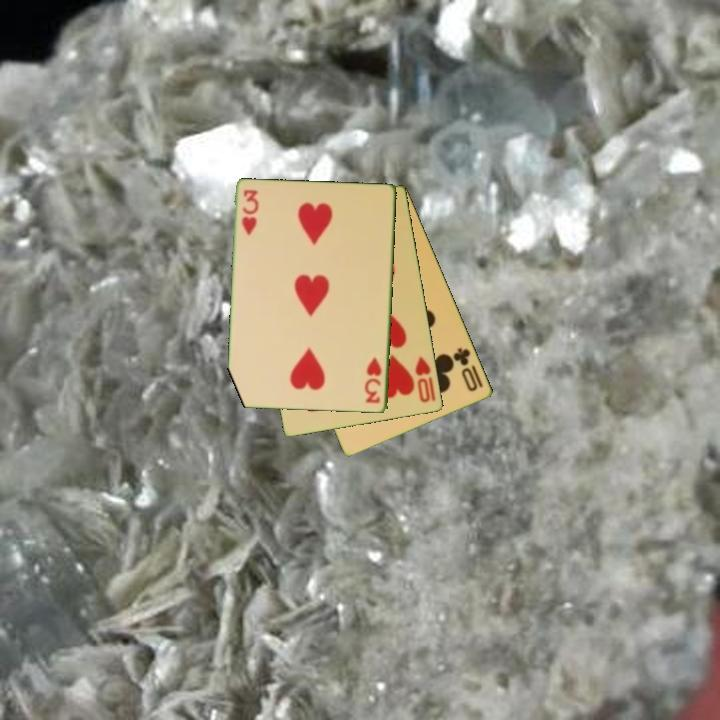10c: (450, 344, 481, 395)
10h: (412, 353, 439, 406)
3h: (238, 186, 261, 239), (362, 354, 385, 406)
